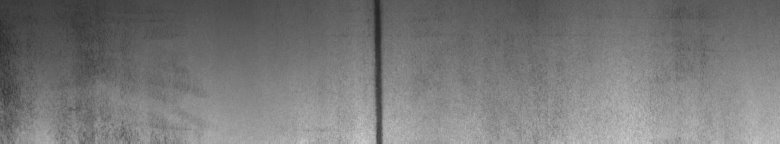hd: (364, 4, 391, 136)
